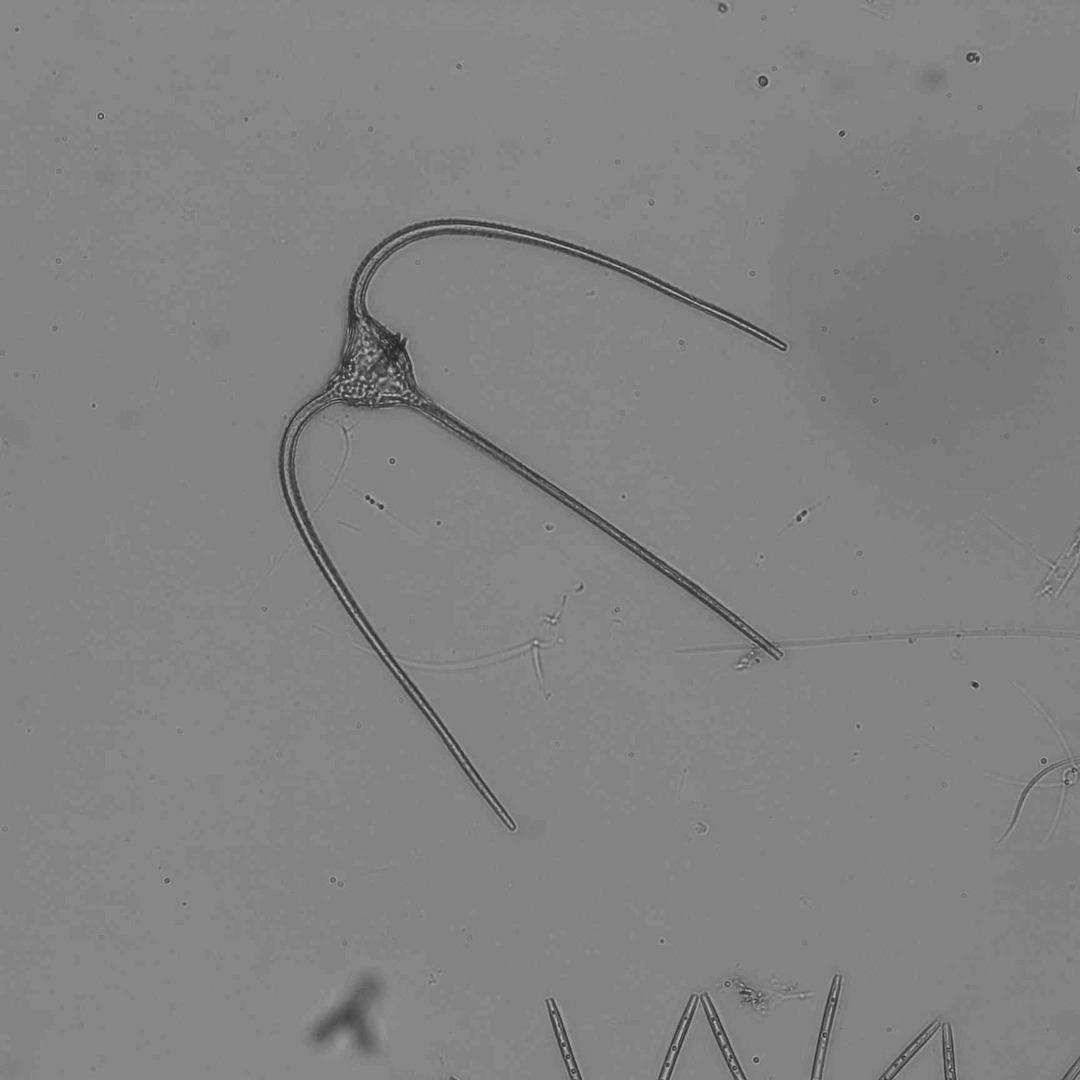ceratium_trichorecos: (279, 219, 789, 833)
